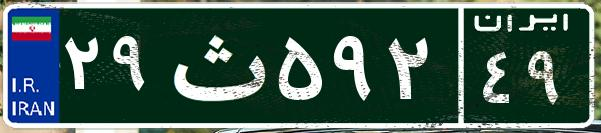2: (385, 28, 445, 110), (57, 26, 110, 107)
4: (475, 38, 525, 113)
5: (273, 28, 330, 110)
9: (330, 28, 385, 110), (110, 28, 158, 105), (525, 38, 570, 115)
ث: (158, 15, 273, 115)
